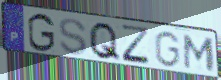G: (26, 12, 56, 54), (153, 30, 181, 69)
M: (182, 33, 216, 73)
Q: (88, 21, 122, 63)
S: (57, 17, 88, 57)
Z: (120, 23, 152, 67)
